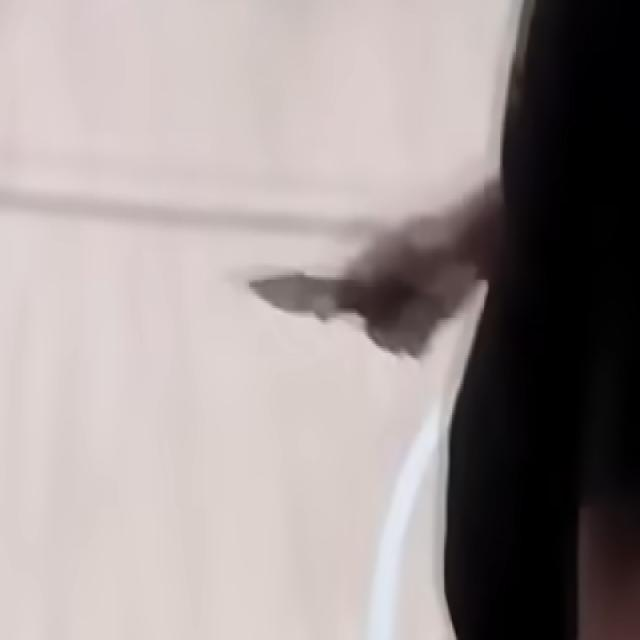knife: (243, 256, 398, 356)
